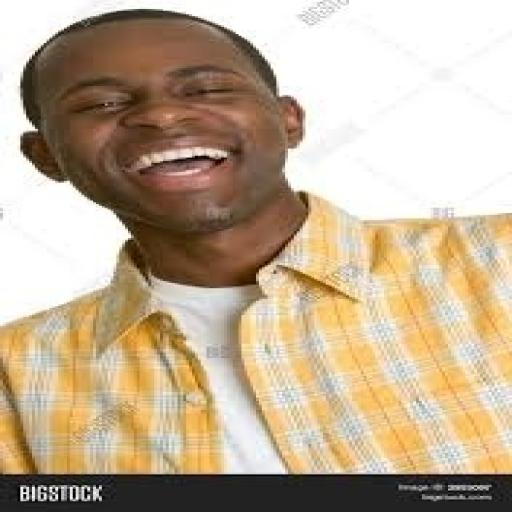laughing: (0, 6, 509, 472), (12, 7, 328, 240)
